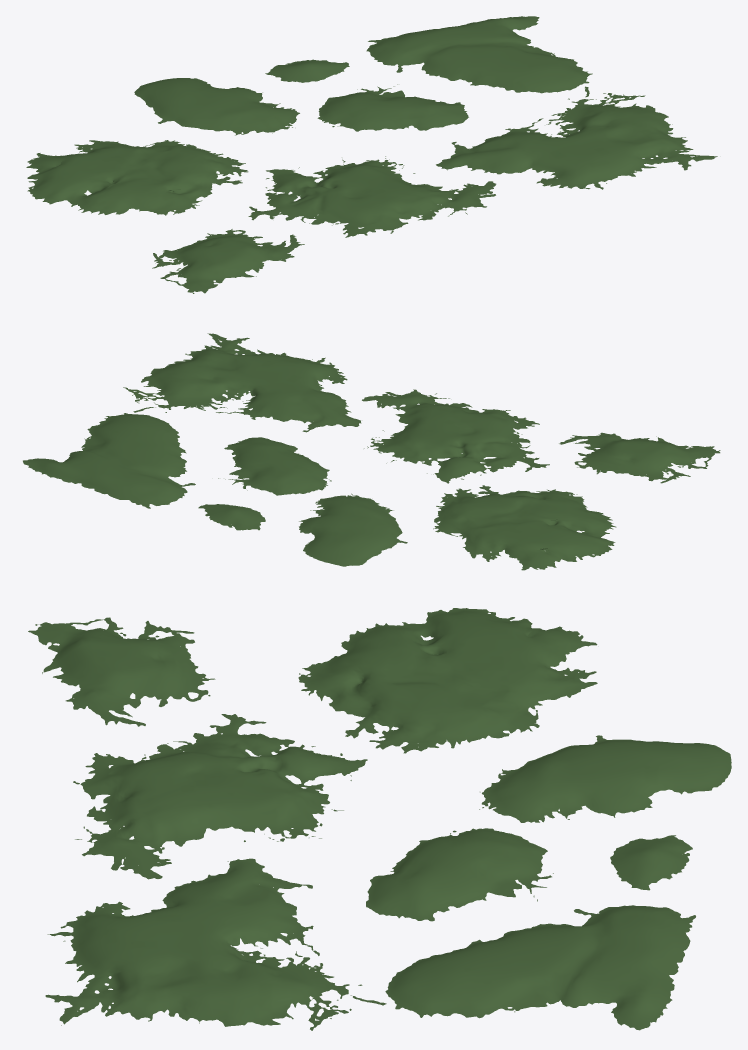
The model's file is LimeExp_4.fbx.
3 views of the same model, one above another, from view 1: azimuth 30°, elevation 25°; view 2: azimuth 150°, elevation 25°; view 3: azimuth 270°, elevation 25° (orthographic). The views are drawn at different scales.
Parts seen in each view (by area): view 1: Obj3d66-17362418-9-456, Obj3d66-17362418-3-907, Obj3d66-17362418-4-887, Obj3d66-17362418-5-60, Obj3d66-17362418-8-580, Obj3d66-17362418-6-123, Obj3d66-17362418-2-94, Obj3d66-17362418-7-232; view 2: Obj3d66-17362418-9-456, Obj3d66-17362418-3-907, Obj3d66-17362418-4-887, Obj3d66-17362418-5-60, Obj3d66-17362418-8-580, Obj3d66-17362418-6-123, Obj3d66-17362418-2-94, Obj3d66-17362418-7-232; view 3: Obj3d66-17362418-9-456, Obj3d66-17362418-3-907, Obj3d66-17362418-4-887, Obj3d66-17362418-5-60, Obj3d66-17362418-8-580, Obj3d66-17362418-6-123, Obj3d66-17362418-2-94, Obj3d66-17362418-7-232.
Boxes of the visible parts, x1=… form: Obj3d66-17362418-9-456: x1=436, y1=86, x2=717, y2=189; Obj3d66-17362418-3-907: x1=26, y1=140, x2=248, y2=215; Obj3d66-17362418-4-887: x1=248, y1=156, x2=496, y2=237; Obj3d66-17362418-5-60: x1=366, y1=16, x2=592, y2=93; Obj3d66-17362418-8-580: x1=134, y1=78, x2=299, y2=135; Obj3d66-17362418-6-123: x1=152, y1=229, x2=304, y2=293; Obj3d66-17362418-2-94: x1=317, y1=84, x2=468, y2=131; Obj3d66-17362418-7-232: x1=265, y1=59, x2=349, y2=82; Obj3d66-17362418-9-456: x1=123, y1=333, x2=361, y2=432; Obj3d66-17362418-3-907: x1=433, y1=485, x2=616, y2=570; Obj3d66-17362418-4-887: x1=362, y1=389, x2=549, y2=483; Obj3d66-17362418-5-60: x1=23, y1=413, x2=195, y2=508; Obj3d66-17362418-8-580: x1=299, y1=493, x2=407, y2=566; Obj3d66-17362418-6-123: x1=559, y1=432, x2=720, y2=483; Obj3d66-17362418-2-94: x1=218, y1=437, x2=331, y2=495; Obj3d66-17362418-7-232: x1=198, y1=504, x2=265, y2=530; Obj3d66-17362418-9-456: x1=45, y1=858, x2=386, y2=1030; Obj3d66-17362418-3-907: x1=298, y1=608, x2=597, y2=753; Obj3d66-17362418-4-887: x1=73, y1=714, x2=367, y2=879; Obj3d66-17362418-5-60: x1=385, y1=905, x2=695, y2=1030; Obj3d66-17362418-8-580: x1=479, y1=735, x2=731, y2=822; Obj3d66-17362418-6-123: x1=28, y1=617, x2=215, y2=726; Obj3d66-17362418-2-94: x1=366, y1=828, x2=553, y2=921; Obj3d66-17362418-7-232: x1=610, y1=835, x2=692, y2=890.
Bounding box in the file's own units: 19.83 × 0.3151 × 14.04.
